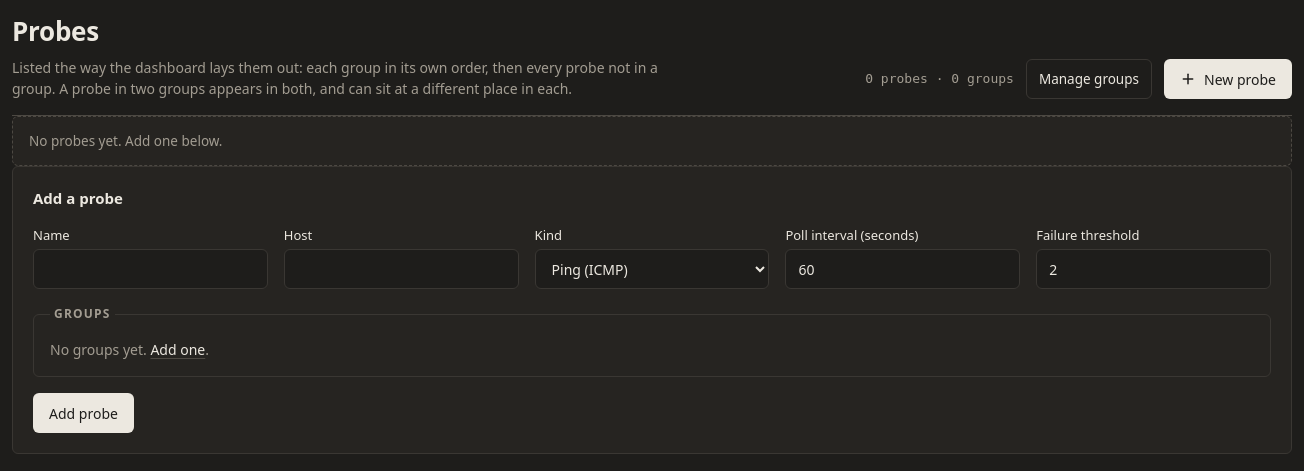
Scenario: AdminProbesPage › a message probe with no reporters yet points at the reporters page instead
Expected: the field labelled "Name" is shown, [33,249,268,289]
Select "Message (a reporter pushes to us)" in the dropdown labelled "Kind": coordinates (652, 269) [535,249,769,289]
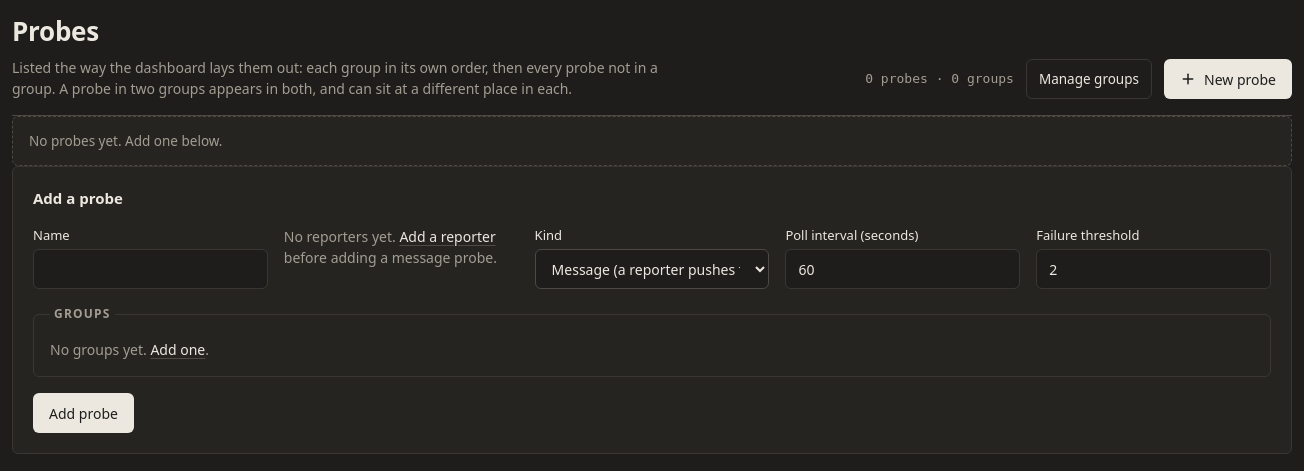
Now the link "Add a reporter" is shown, box [399,227,496,246]
